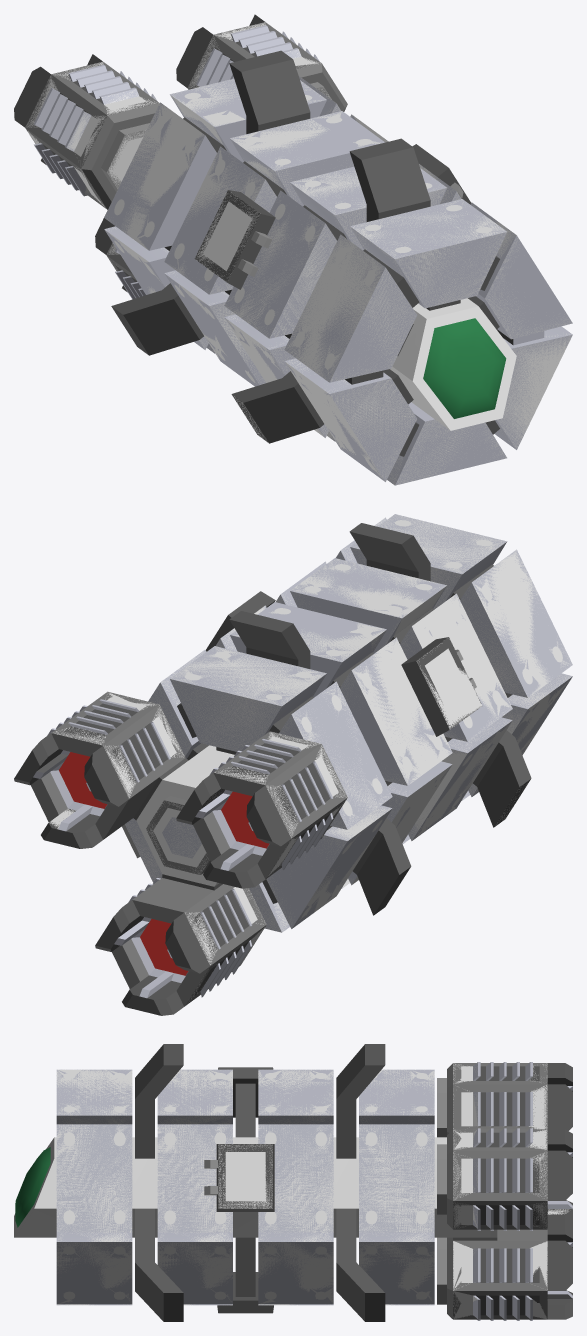
File: freighter.glb
3 renders of one model, top to bottom at view 1: azimuth 30°, elevation 25°; view 2: azimuth 150°, elevation 25°; view 3: azimuth 270°, elevation 25°, orthographic. The views are drawn at different scales.
Parts seen in each view (by area): view 1: Mesh_HD, Mesh_LP; view 2: Mesh_HD, Mesh_LP; view 3: Mesh_HD, Mesh_LP.
Boxes of the visible parts, x1=… form: Mesh_HD: x1=14, y1=14, x2=572, y2=485; Mesh_LP: x1=25, y1=22, x2=571, y2=485; Mesh_HD: x1=14, y1=514, x2=572, y2=1015; Mesh_LP: x1=48, y1=514, x2=572, y2=1004; Mesh_HD: x1=14, y1=1044, x2=572, y2=1321; Mesh_LP: x1=56, y1=1063, x2=568, y2=1319.
Size of the model in its own units: 1.94 by 1.99 by 3.88.
